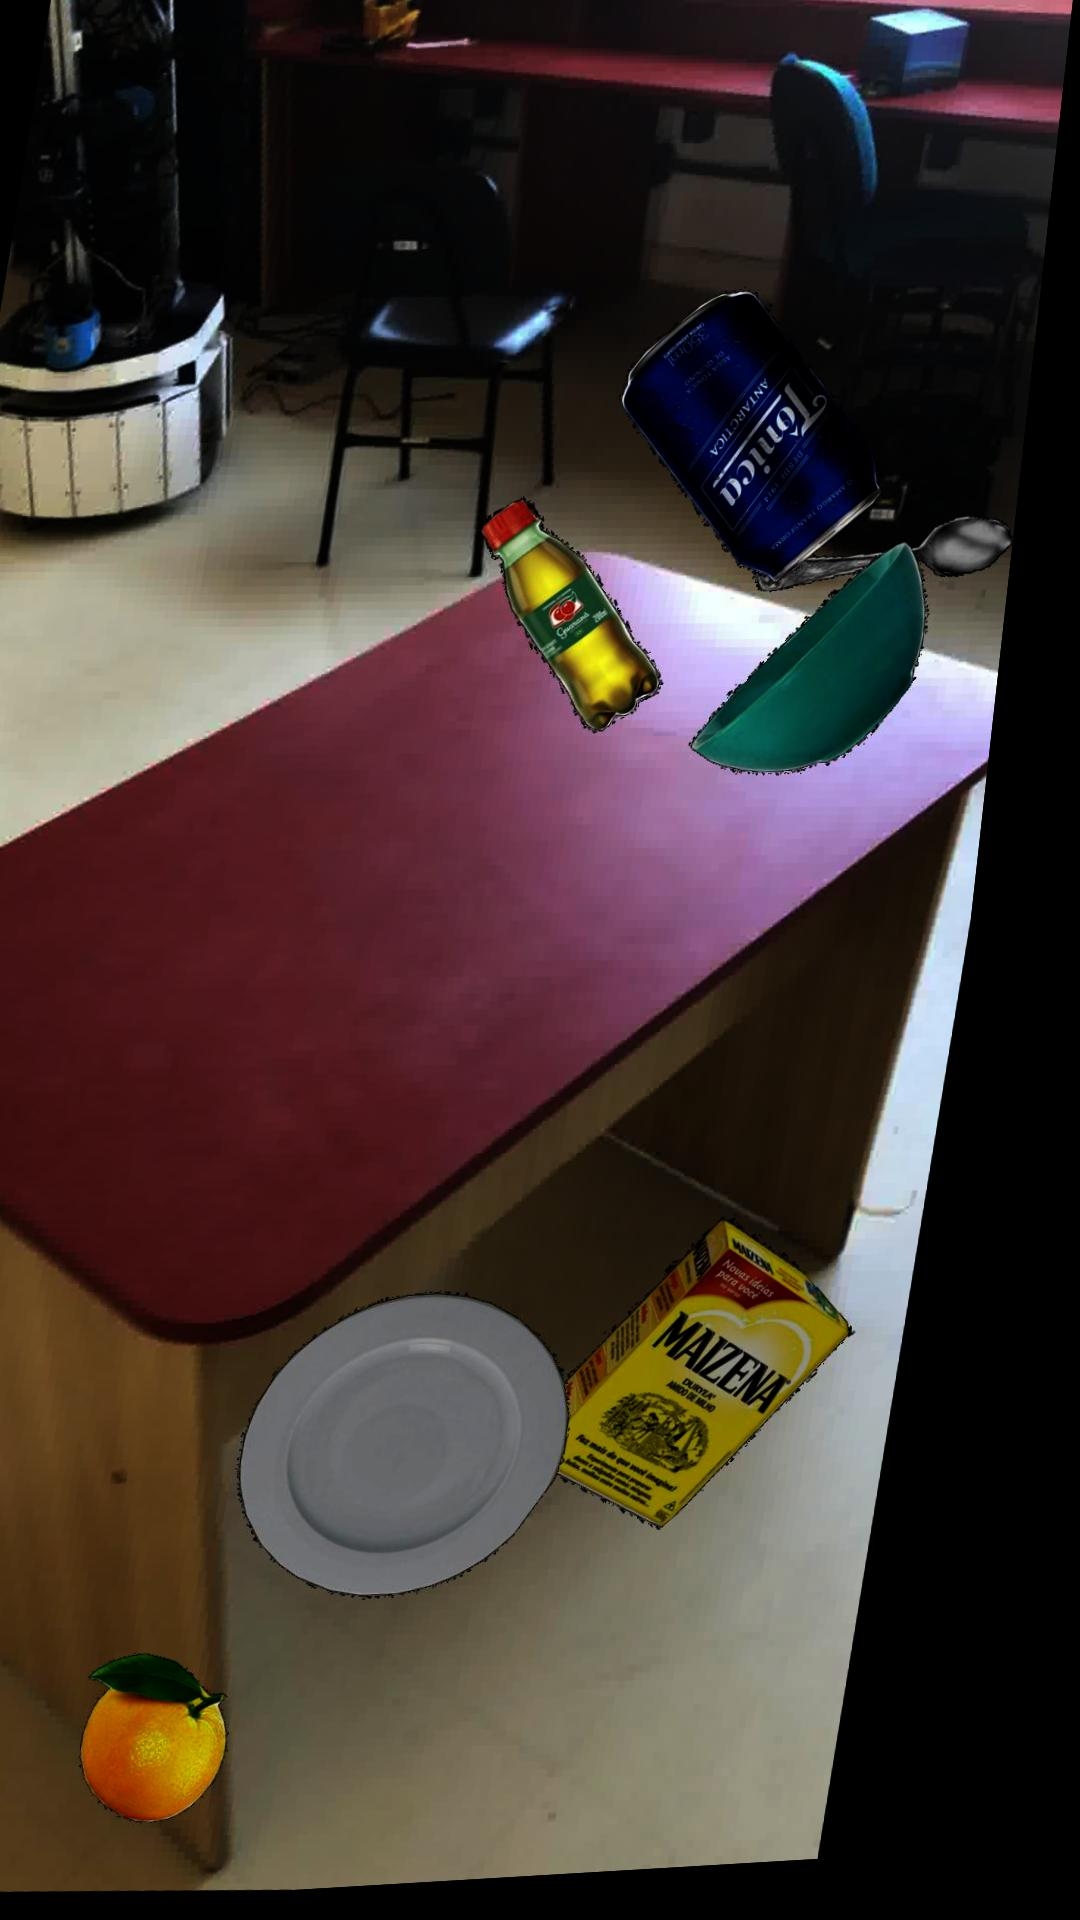bowl: (709, 551, 944, 781)
guarana: (493, 502, 680, 737)
orange: (121, 1655, 269, 1825)
plate: (273, 1296, 604, 1602)
spoon: (770, 526, 1027, 600)
tonic: (632, 298, 895, 591)
